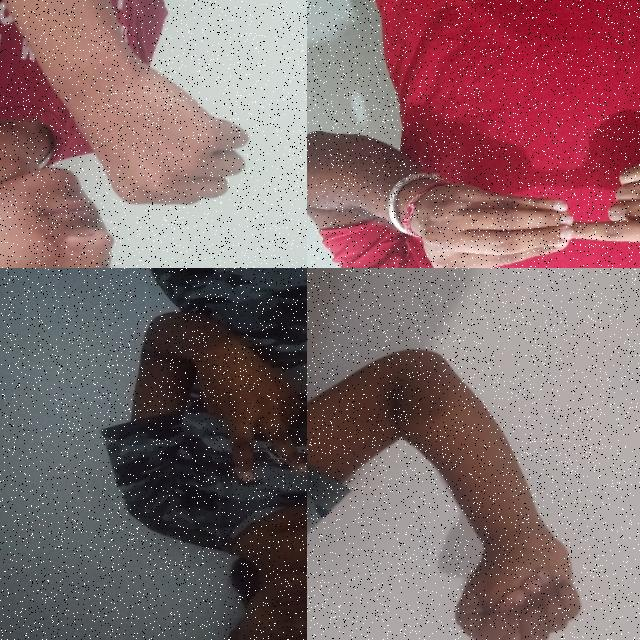Dulya: (439, 497, 594, 640)
Fist Mouth: (0, 39, 298, 268)
Five Fathers: (406, 139, 640, 268)
Reversed Victory: (190, 317, 307, 490)
